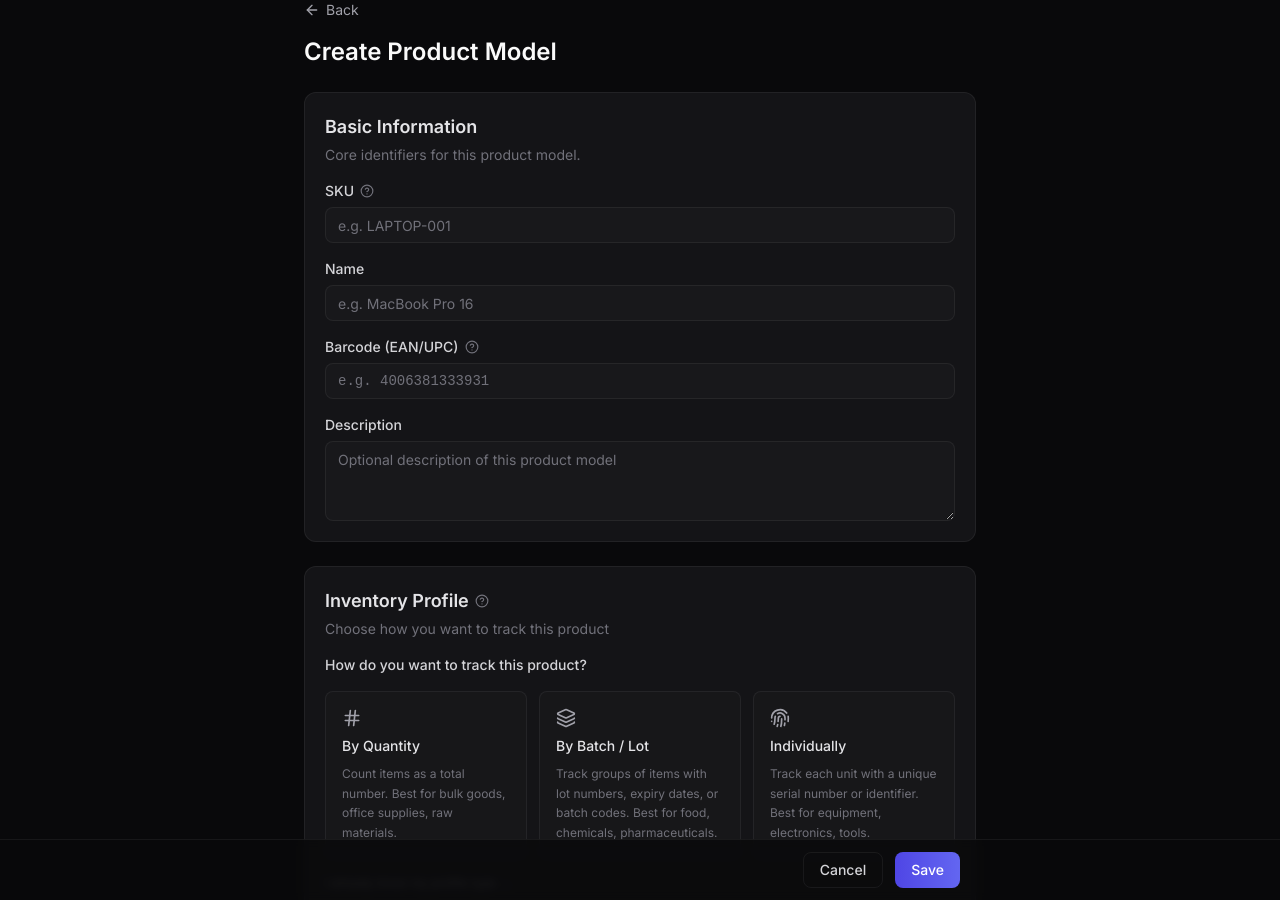
it: ProductModelCreate Form › batch wizard shows sub-options
Click the text "By Batch / Lot". click: (602, 746)
box: left=556, top=736, right=649, bottom=756
(page scrolled)
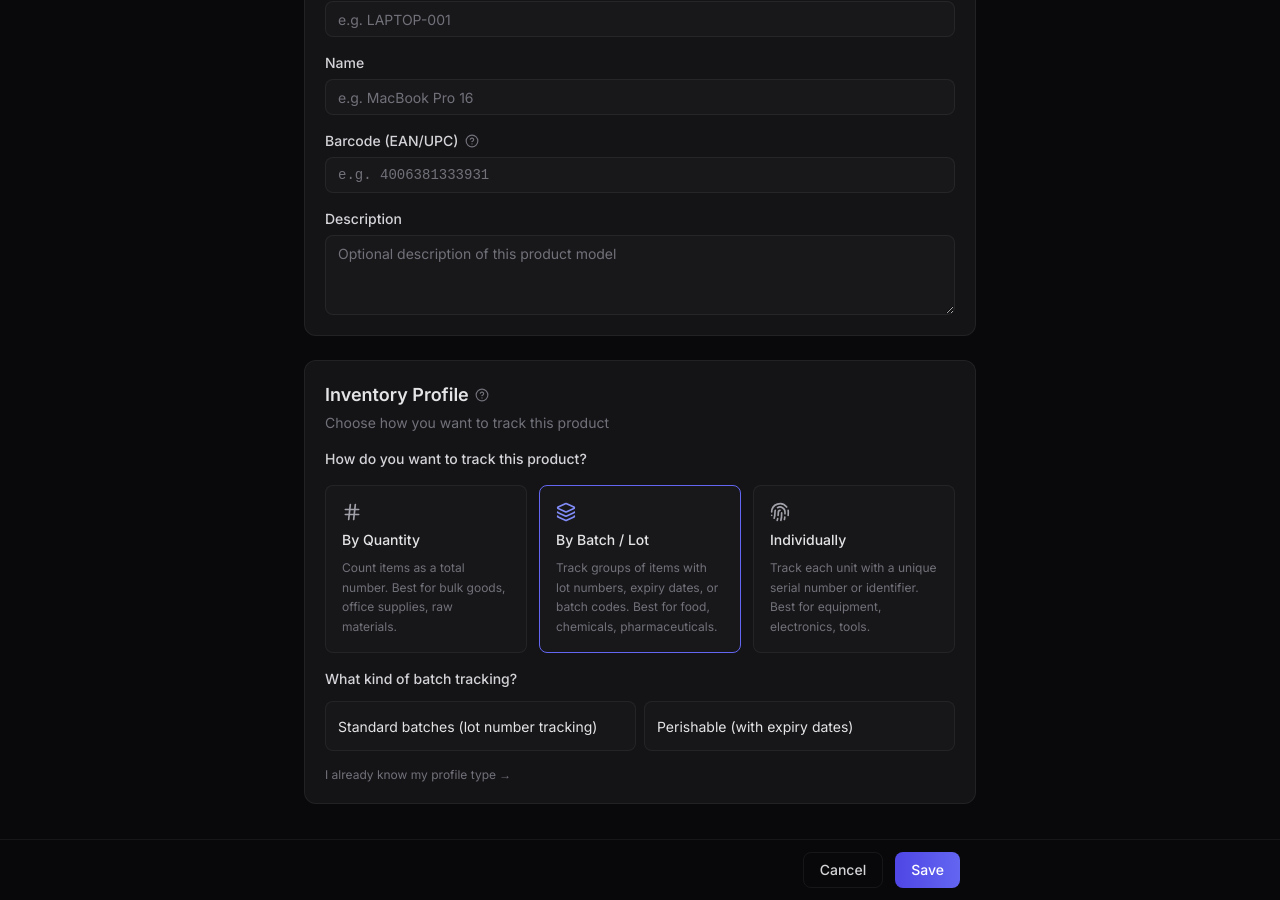
Check: the text "Standard batches (lot number tracking)" is shown, box left=338, top=718, right=597, bottom=735
Check: the text "Perishable (with expiry dates)" is shown, box left=657, top=718, right=854, bottom=735
